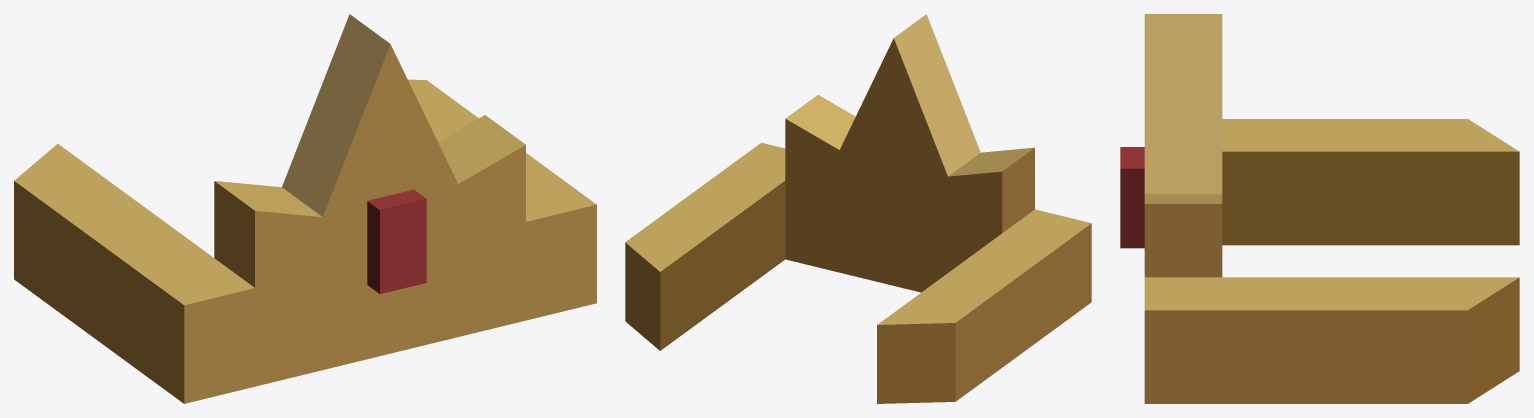
File: SD_Prop_Crown_01.fbx
3 renders of one model, left to right at view 1: azimuth 30°, elevation 25°; view 2: azimuth 150°, elevation 25°; view 3: azimuth 270°, elevation 25°, orthographic. The views are drawn at different scales.
Parts seen in each view (by area): view 1: SD_Prop_Crown_01; view 2: SD_Prop_Crown_01; view 3: SD_Prop_Crown_01.
Boxes of the visible parts, x1=… form: SD_Prop_Crown_01: x1=14, y1=14, x2=596, y2=403; SD_Prop_Crown_01: x1=625, y1=14, x2=1091, y2=403; SD_Prop_Crown_01: x1=1120, y1=14, x2=1519, y2=403.
Bounding box in the file's own units: 0.9534 × 0.6836 × 0.8407.
